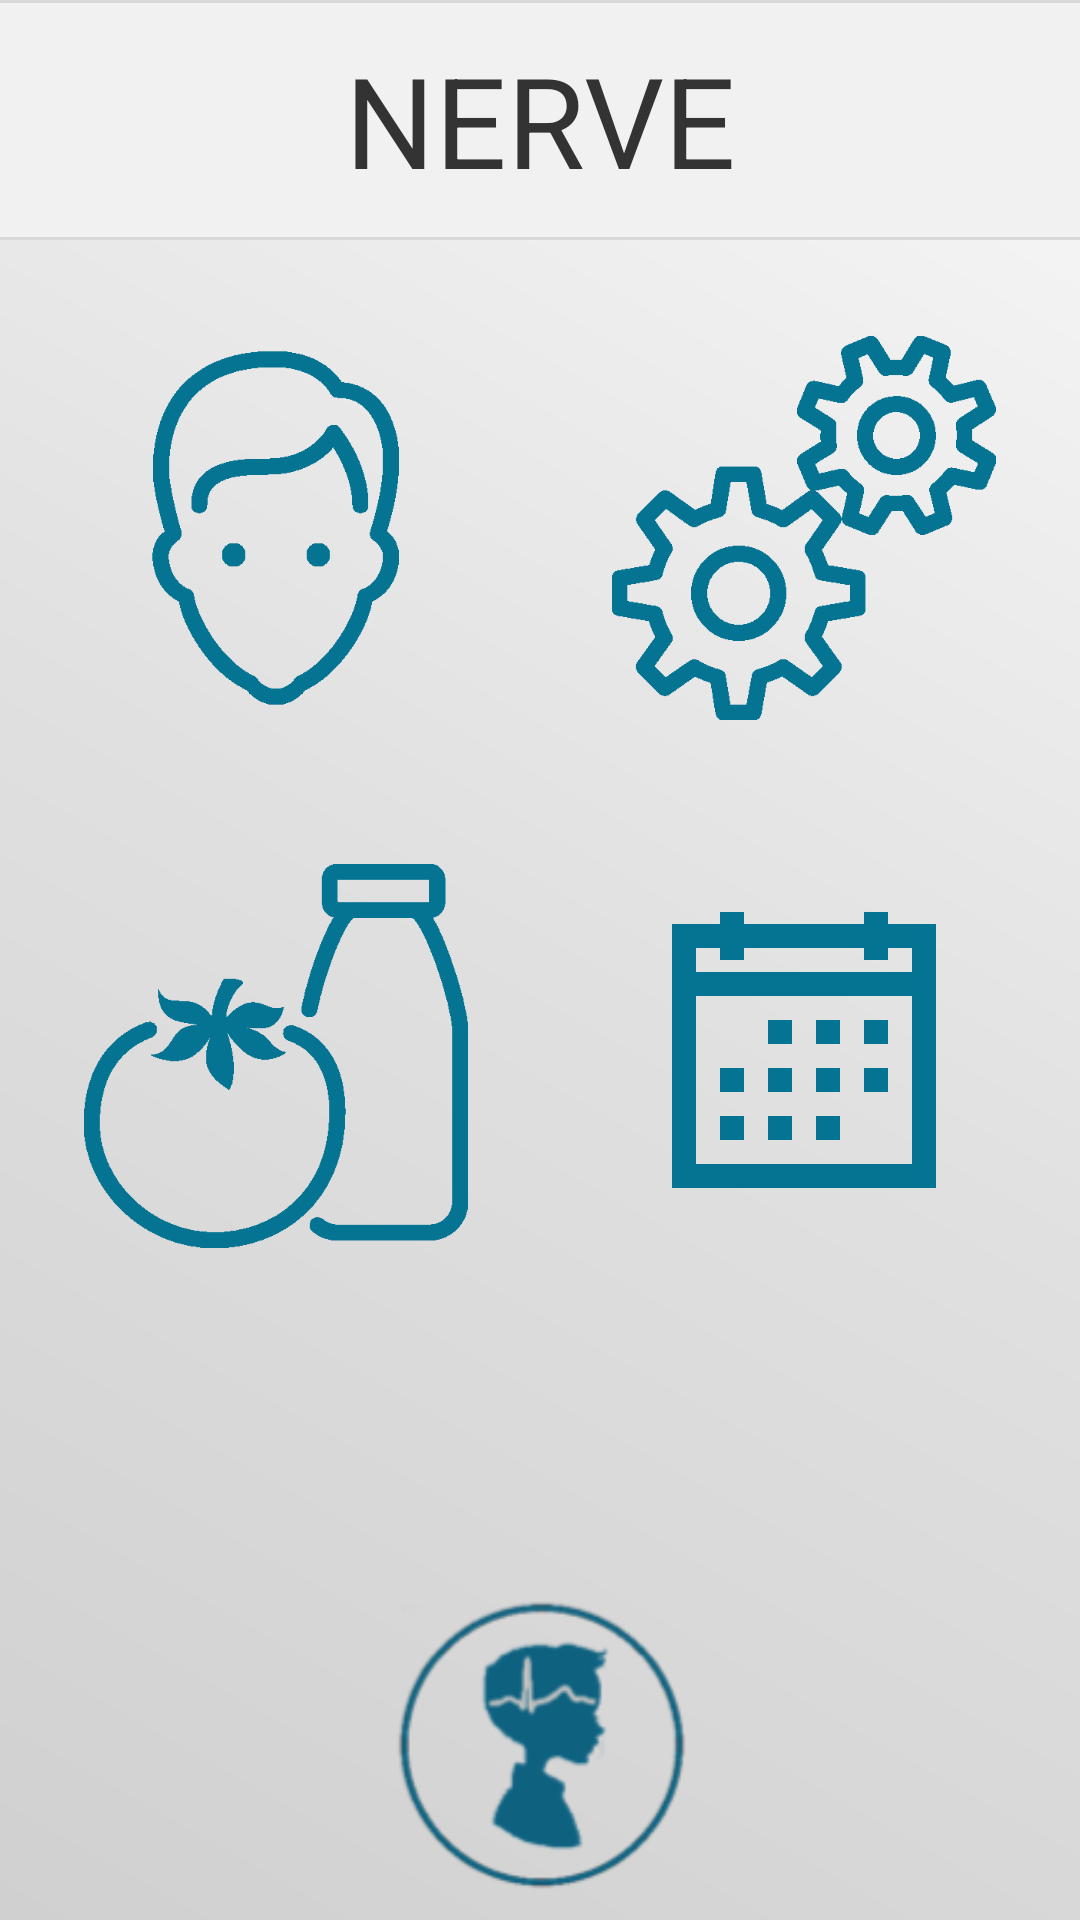

Screen size 1080px×1920px. Icon name, then its box in pixels as (x1, y1, x2, y2):
calendar: (672, 912, 936, 1188)
nerve: (399, 1603, 685, 1888)
profile: (152, 351, 399, 705)
